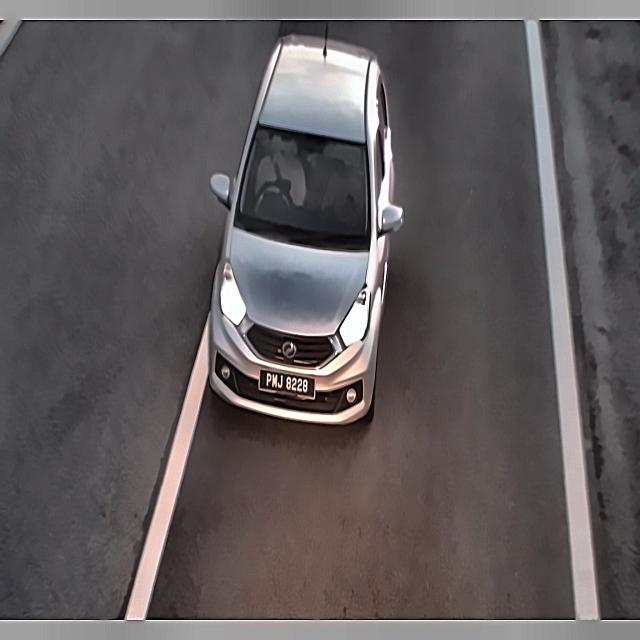car: (256, 363, 320, 405)
